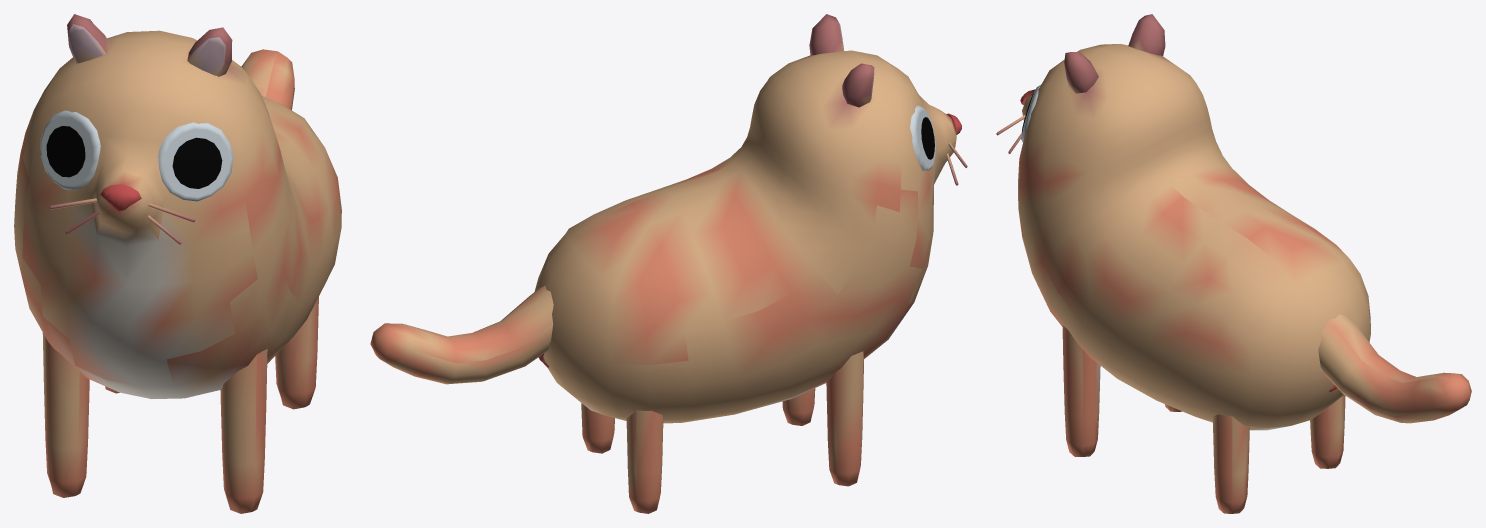
The model's file is Cat.glb.
3 views of the same model, side by side, from view 1: azimuth 30°, elevation 25°; view 2: azimuth 150°, elevation 25°; view 3: azimuth 270°, elevation 25° (orthographic). The views are drawn at different scales.
Visible parts, largest first — view 1: 22; view 2: 22; view 3: 22.
Boxes of the visible parts, x1,y1,x2,y2 form: 22: (14,14,341,513); 22: (370,14,967,513); 22: (996,14,1471,513).
Bounding box in the file's own units: 0.8754 × 0.8684 × 0.9496.
